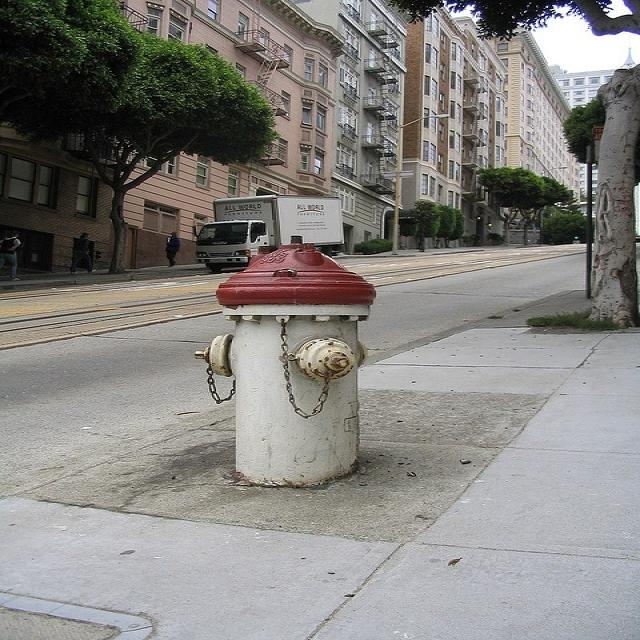fire_hydrant: (188, 238, 414, 493)
